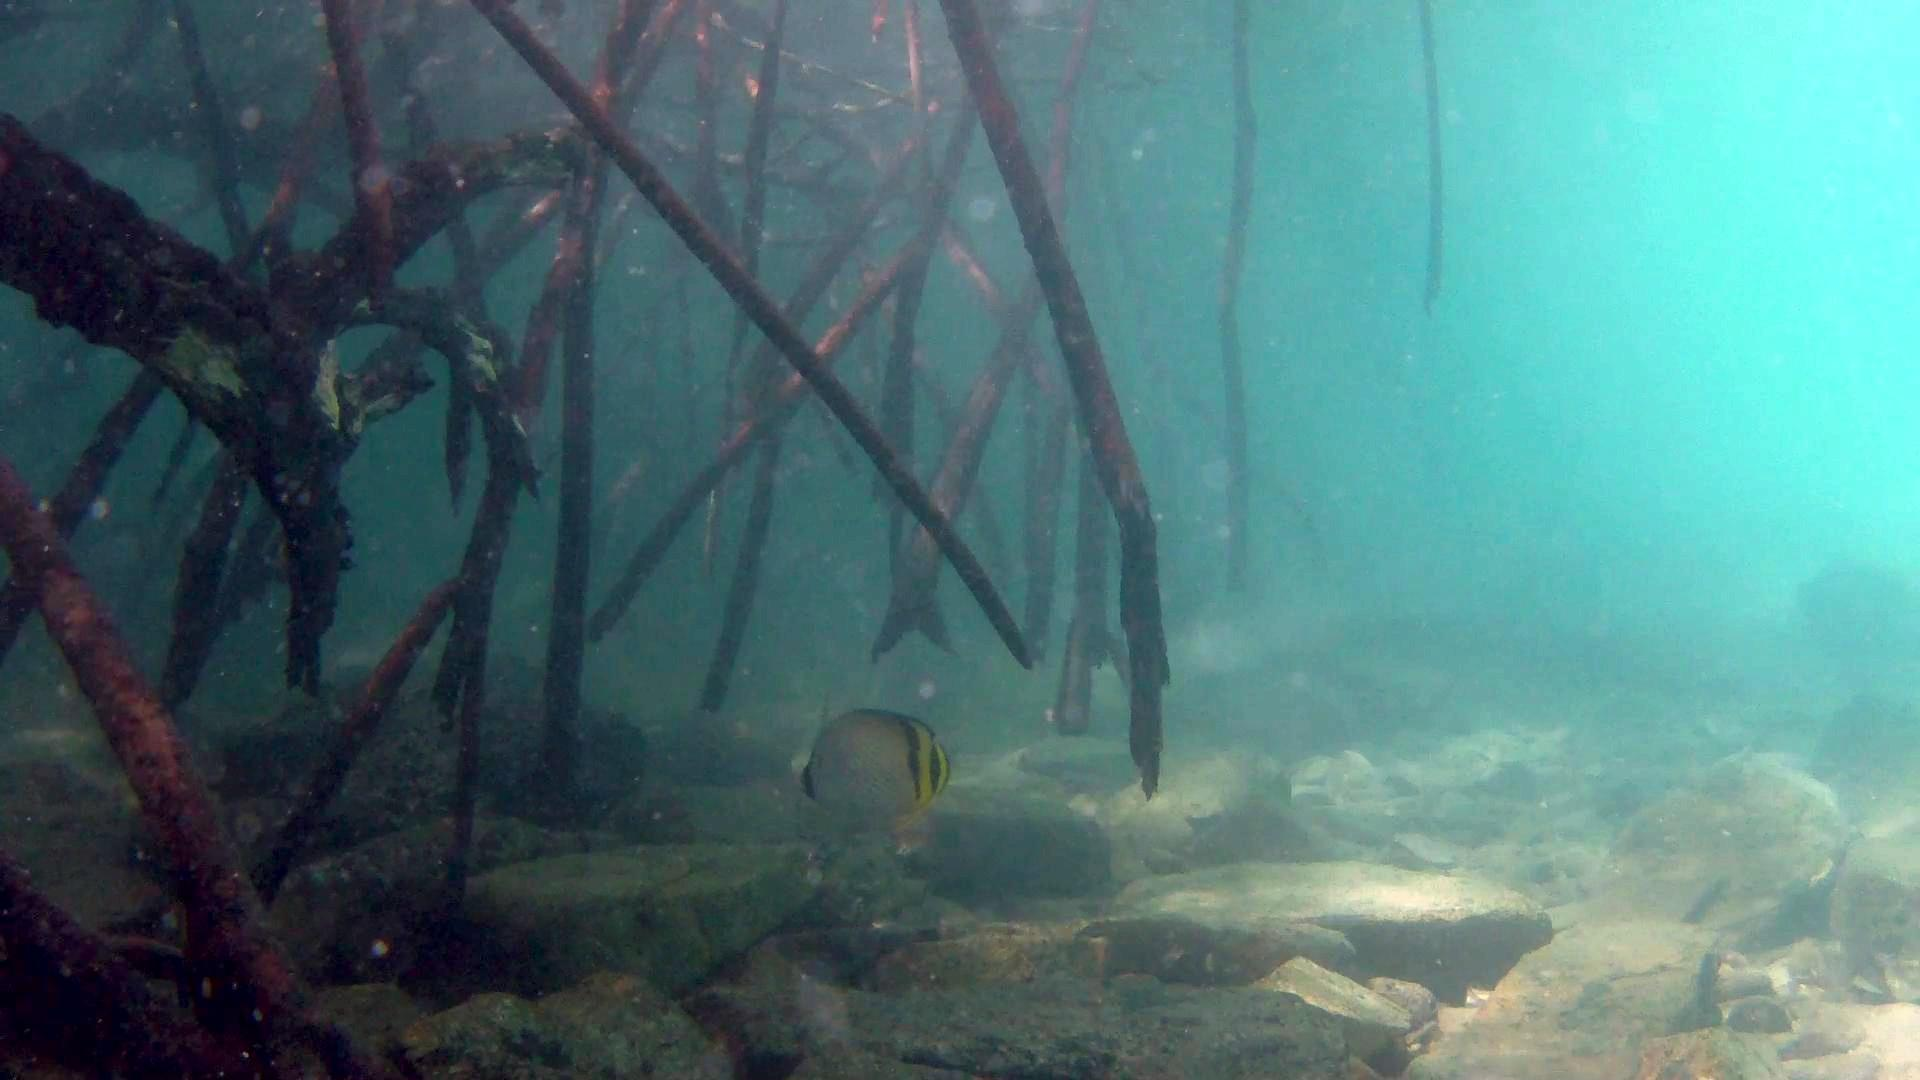chaetodon vagabundus: (787, 704, 956, 827)
